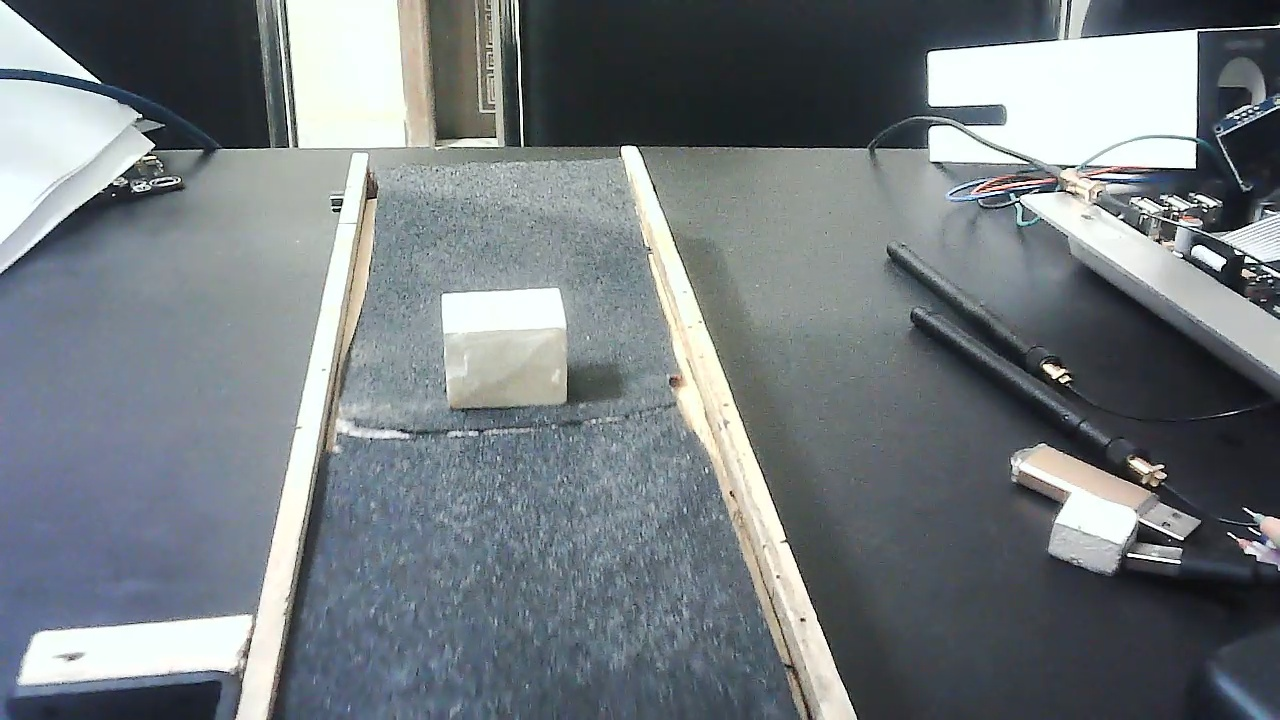Medium: (441, 284, 570, 413)
